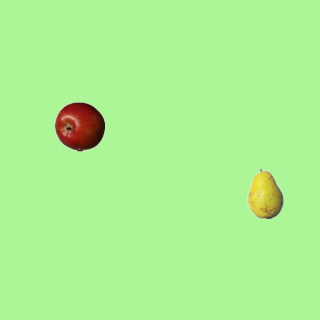Apple Braeburn: (54, 101, 104, 151)
Pear Monster: (240, 168, 290, 218)
